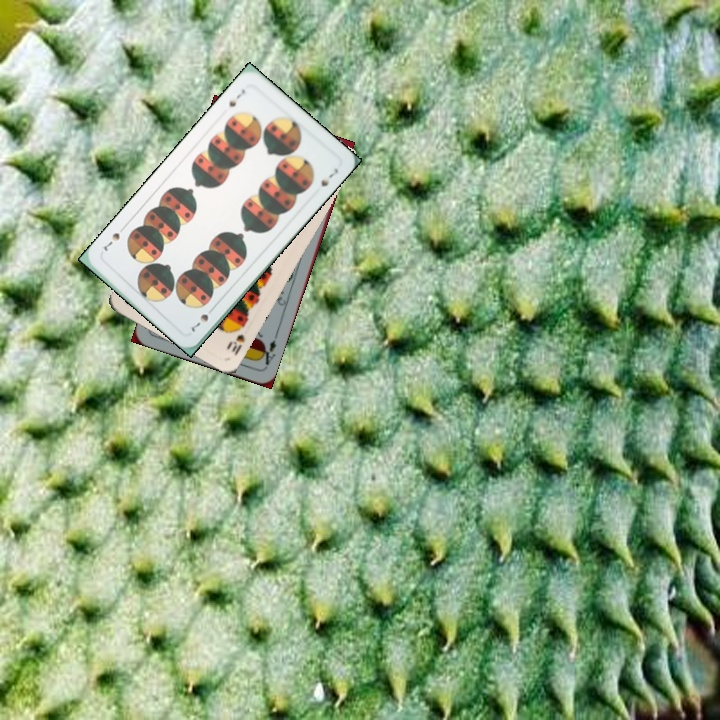EA: (256, 336, 279, 370)
S10: (223, 320, 247, 358)
S7: (187, 302, 217, 334), (225, 84, 248, 110)
